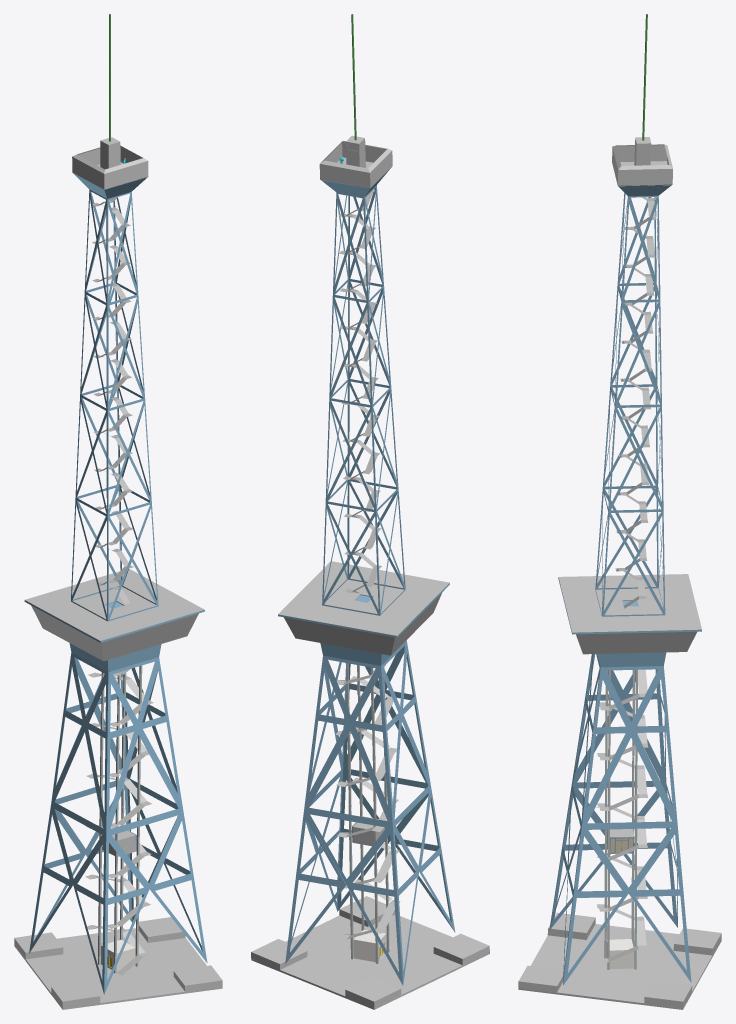
The model's file is Funkturm.gltf.
3 renders of one model, left to right at view 1: azimuth 30°, elevation 25°; view 2: azimuth 150°, elevation 25°; view 3: azimuth 270°, elevation 25°, orthographic.
Parts seen in each view (by area): view 1: 3DGeom~13, 3DGeom~16, 3DGeom~1, 3DGeom~5, 3DGeom~18, 3DGeom~3, 3DGeom~11, 3DGeom~281 (×3), 3DGeom~8, 3DGeom~10, 3DGeom~19, 3DGeom~6 (+2 smaller); view 2: 3DGeom~13, 3DGeom~16, 3DGeom~1, 3DGeom~5, 3DGeom~18, 3DGeom~3, 3DGeom~11, 3DGeom~8, 3DGeom~10, 3DGeom~15, 3DGeom~19; view 3: 3DGeom~13, 3DGeom~1, 3DGeom~16, 3DGeom~5, 3DGeom~18, 3DGeom~3, 3DGeom~281 (×3), 3DGeom~11, 3DGeom~8, 3DGeom~283 (×2), 3DGeom~10, 3DGeom~15 (+2 smaller).
Part boxes in pixels (x1=…): 3DGeom~13: x1=29, y1=652, x2=207, y2=994; 3DGeom~16: x1=71, y1=189, x2=158, y2=621; 3DGeom~1: x1=14, y1=917, x2=221, y2=1002; 3DGeom~5: x1=25, y1=569, x2=204, y2=640; 3DGeom~18: x1=72, y1=145, x2=148, y2=189; 3DGeom~3: x1=14, y1=925, x2=222, y2=1009; 3DGeom~11: x1=33, y1=606, x2=195, y2=653; 3DGeom~281 (×3): x1=84, y1=773, x2=151, y2=975; 3DGeom~8: x1=31, y1=605, x2=198, y2=661; 3DGeom~10: x1=69, y1=643, x2=161, y2=672; 3DGeom~19: x1=97, y1=137, x2=146, y2=180; 3DGeom~6: x1=73, y1=162, x2=147, y2=198; 3DGeom~13: x1=285, y1=640, x2=455, y2=985; 3DGeom~16: x1=322, y1=185, x2=405, y2=615; 3DGeom~1: x1=251, y1=896, x2=489, y2=1003; 3DGeom~5: x1=278, y1=561, x2=449, y2=635; 3DGeom~18: x1=319, y1=141, x2=392, y2=188; 3DGeom~3: x1=251, y1=909, x2=489, y2=1009; 3DGeom~11: x1=288, y1=594, x2=440, y2=648; 3DGeom~8: x1=284, y1=593, x2=441, y2=655; 3DGeom~10: x1=320, y1=643, x2=390, y2=665; 3DGeom~15: x1=353, y1=929, x2=386, y2=961; 3DGeom~19: x1=321, y1=135, x2=372, y2=185; 3DGeom~13: x1=549, y1=654, x2=691, y2=985; 3DGeom~1: x1=519, y1=912, x2=721, y2=1003; 3DGeom~16: x1=595, y1=193, x2=665, y2=616; 3DGeom~5: x1=558, y1=574, x2=701, y2=632; 3DGeom~18: x1=612, y1=144, x2=672, y2=185; 3DGeom~3: x1=518, y1=918, x2=721, y2=1009; 3DGeom~281 (×3): x1=596, y1=753, x2=648, y2=962; 3DGeom~11: x1=580, y1=633, x2=692, y2=647; 3DGeom~8: x1=576, y1=631, x2=696, y2=654; 3DGeom~283 (×2): x1=604, y1=756, x2=637, y2=969; 3DGeom~10: x1=597, y1=652, x2=666, y2=667; 3DGeom~15: x1=606, y1=939, x2=634, y2=968.
Bounding box in the file's own units: 29.12 × 151 × 29.13.
